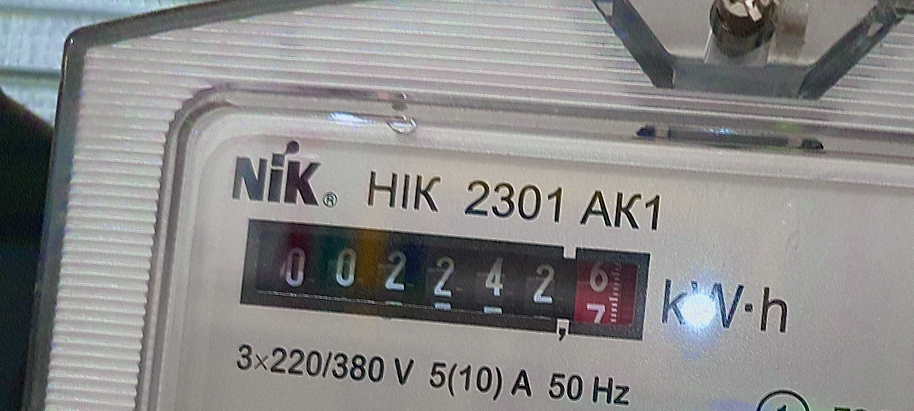0: (329, 243, 359, 288), (380, 247, 409, 292), (280, 243, 307, 289)
2: (527, 260, 557, 306), (429, 253, 457, 299)
4: (479, 253, 507, 299)
6: (584, 258, 611, 294)
7: (581, 300, 606, 325)
screen: (226, 196, 668, 366)
